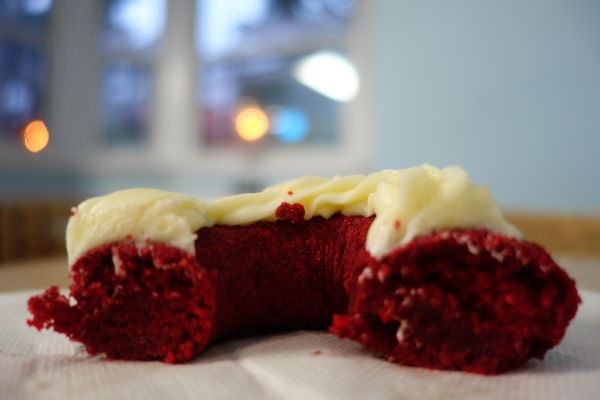sushi: (35, 156, 592, 372)
